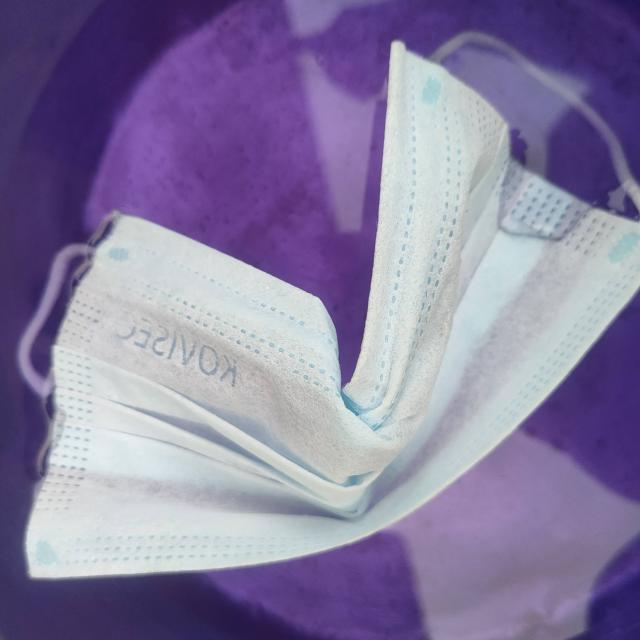mask: (15, 14, 640, 576)
